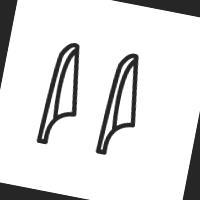Reed: (91, 47, 148, 156), (31, 41, 84, 147)
